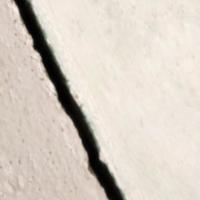crack: (9, 0, 122, 199)
